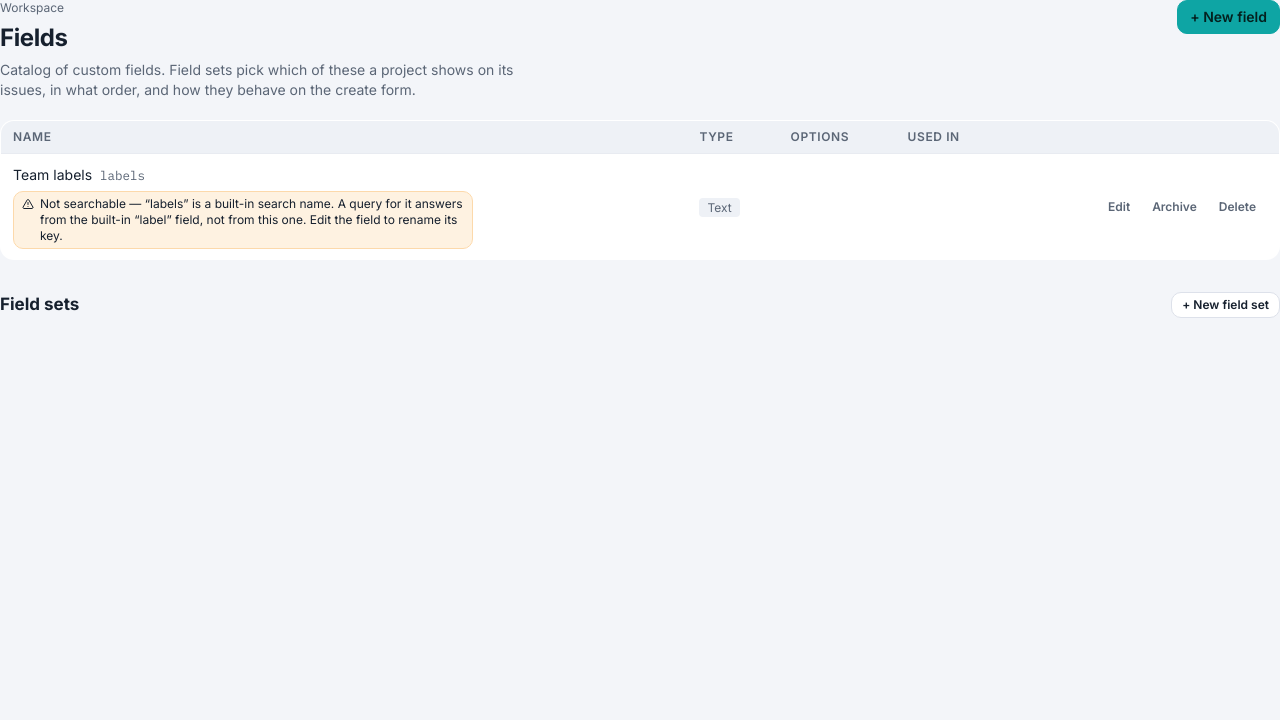
Test case: AdminFieldsPage — the rename affordance in the editor › offers an editable Key on a shadowed field this console owns
Click the button "Edit".
click(1119, 206)  # box [1097,194,1141,220]
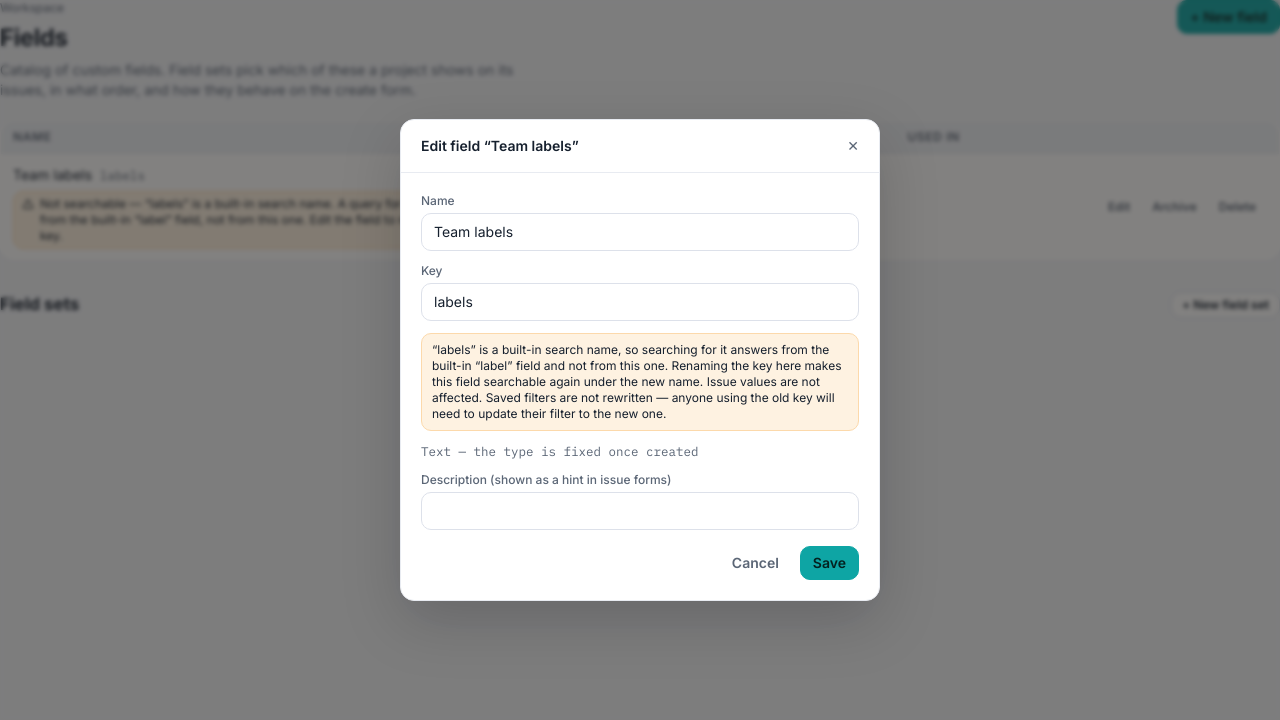
Expected: the dialog does not show "key and type are fixed once created", [400,119,880,601]
Expected: the field labelled "Key" holds "labels", [421,283,859,321]
Expected: the dialog shows "the type is fixed once created", [451,443,698,459]
